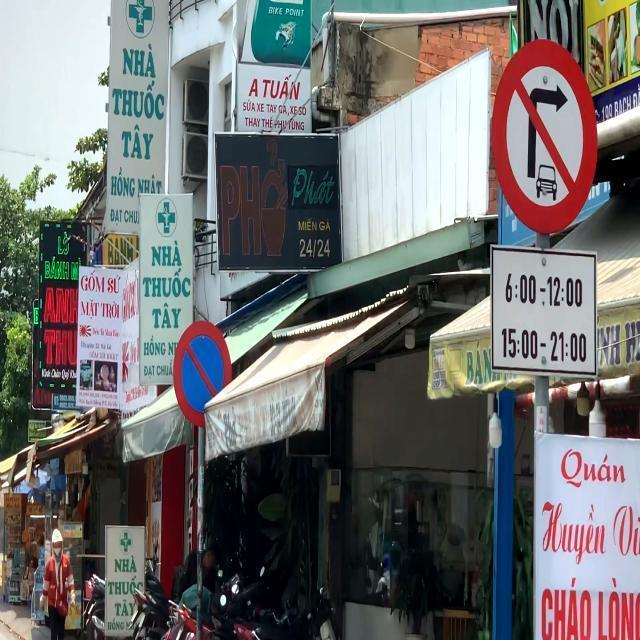123b-cam-re-phai: (488, 38, 600, 230)
131a-cam-do-xe: (172, 317, 234, 418)
